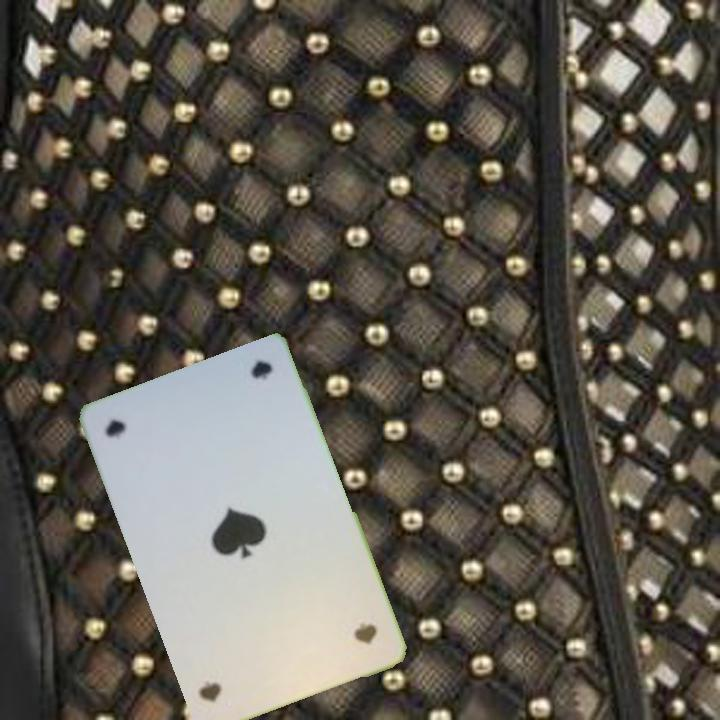s_a.png: (96, 383, 218, 497), (267, 571, 389, 685)
